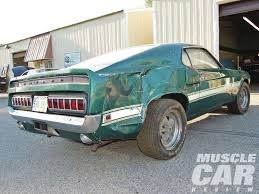Dent: (94, 70, 155, 136), (130, 60, 179, 76)
Scratch: (137, 90, 160, 126)
